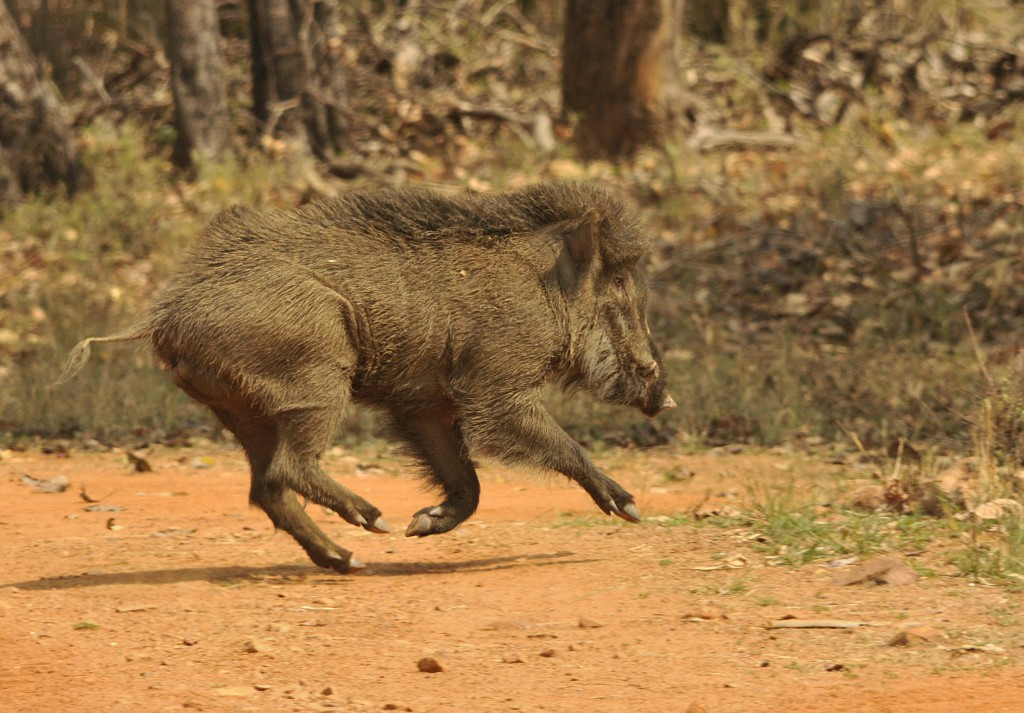wild boar: (119, 172, 697, 614)
